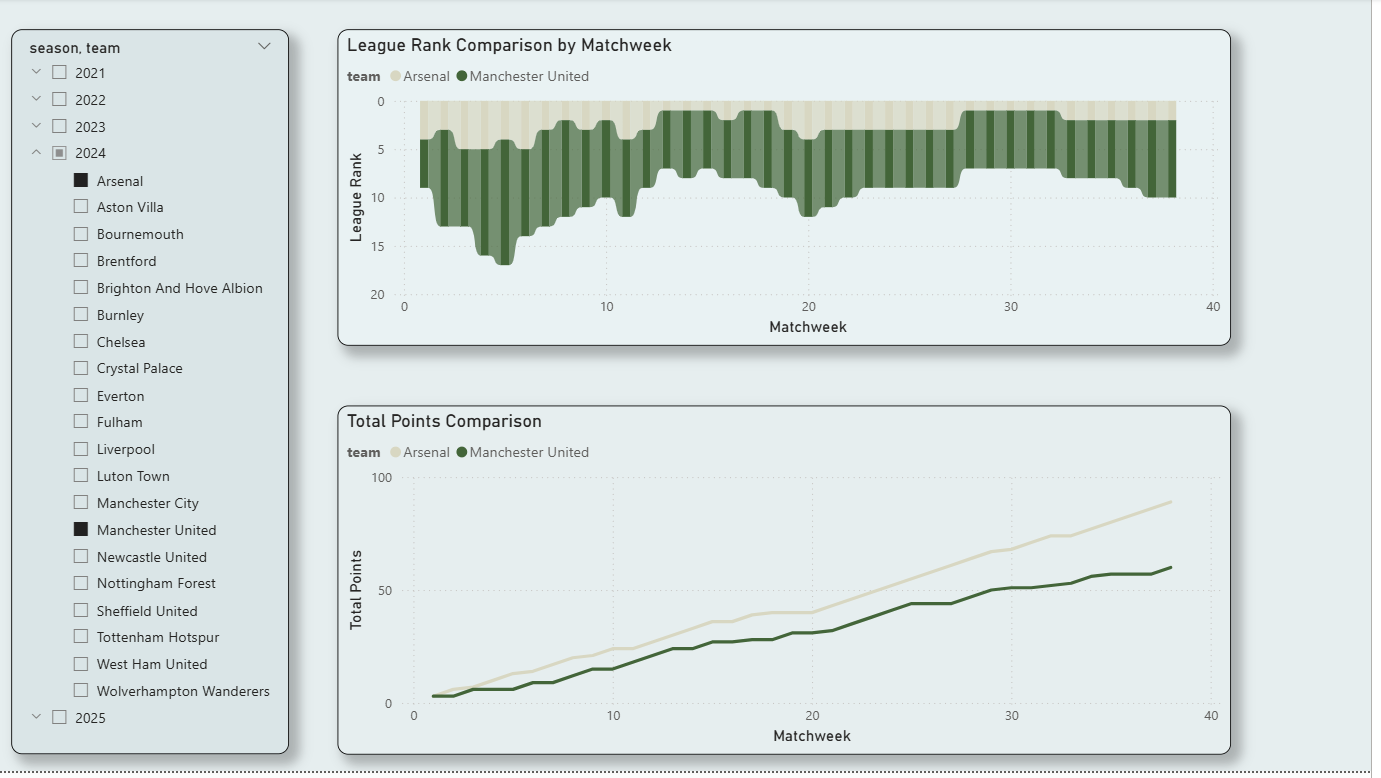

This screenshot's page, from the dashboard's own definition file:
{"tool":"powerbi","page":{"name":"Season Journey","canvas":[1280,720],"ordinal":2},"visuals":[{"type":"ribbonChart","title":"League Rank Comparison by Matchweek  ","fields":{"Category":["pl_matches.Matchweek"],"Y":["pl_matches.League Rank"],"Series":["pl_matches.team"]},"box":[318.6,29.1,831.4,294.2],"z":0},{"type":"lineChart","title":"Total Points Comparison ","fields":{"Category":["pl_matches.Matchweek"],"Series":["pl_matches.team"],"Y":["pl_matches.Total Points YTD"]},"box":[318.6,379.1,831.4,324.4],"z":1000},{"type":"slicer","fields":{"Values":["pl_matches.season","pl_matches.team"]},"box":[15.1,29.1,258.1,674.4],"z":2000}]}

Visuals, with their boxes in screenshot pixels (x1, y1, x2, y2):
"League Rank Comparison by Matchweek  " ribbonChart: bbox(335, 31, 1220, 344)
"Total Points Comparison " lineChart: bbox(335, 403, 1220, 749)
slicer - pl_matches.season x pl_matches.team: bbox(12, 31, 287, 749)
